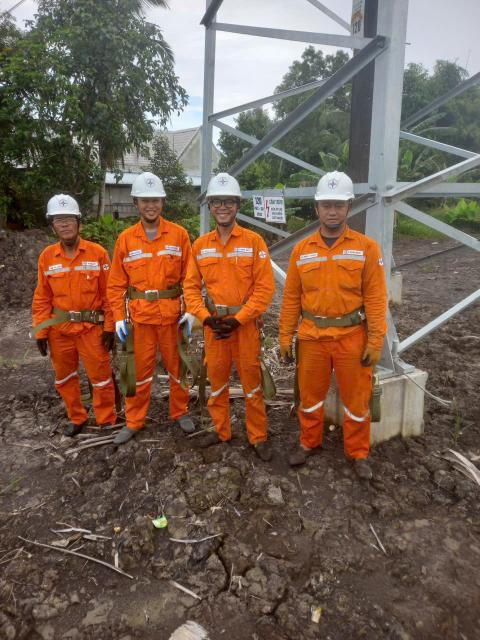gloves: (26, 334, 59, 360), (356, 339, 382, 372), (212, 313, 241, 342), (166, 312, 197, 338), (110, 318, 134, 347), (272, 342, 298, 368), (198, 317, 223, 335), (100, 327, 114, 352)
harness: (292, 305, 370, 337), (42, 302, 113, 334), (198, 287, 258, 318), (118, 283, 195, 304)
helmet: (312, 165, 363, 208), (199, 171, 259, 202), (127, 168, 173, 205), (45, 192, 84, 223)
shoes: (279, 444, 324, 472), (346, 450, 381, 486), (185, 428, 235, 451), (109, 423, 147, 449), (243, 438, 274, 465), (58, 417, 87, 442), (174, 413, 201, 432)
